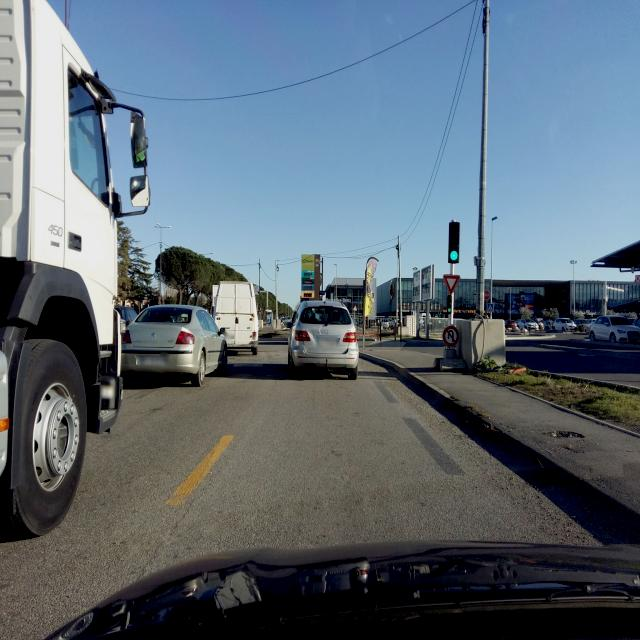car: (120, 303, 228, 387), (287, 299, 359, 380), (214, 280, 259, 355), (588, 314, 640, 343), (552, 317, 578, 333), (575, 317, 594, 333), (517, 319, 540, 332), (540, 318, 554, 332), (504, 323, 520, 333)
